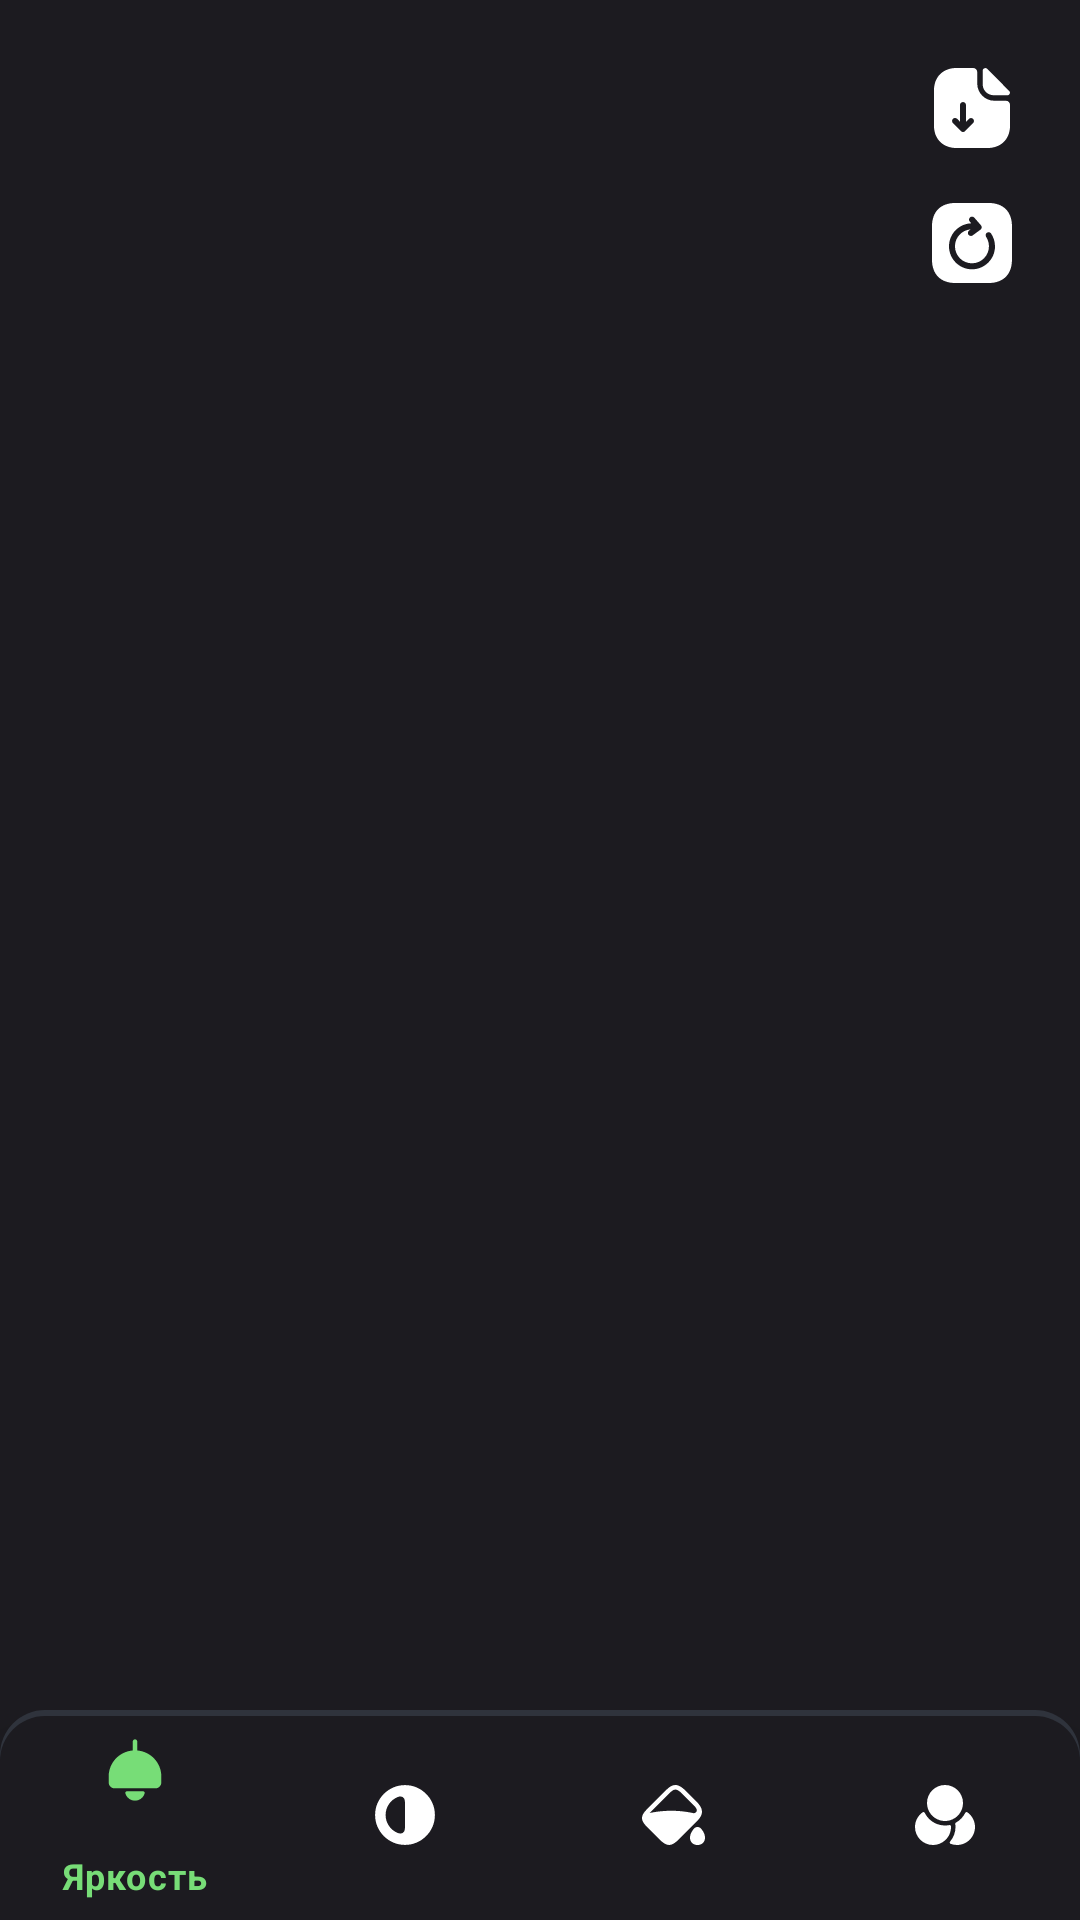

Named icons in this screenshot (1080w x 1920h) and their centers, (x,y):
rotate right: (972,243)
save: (972,108)
